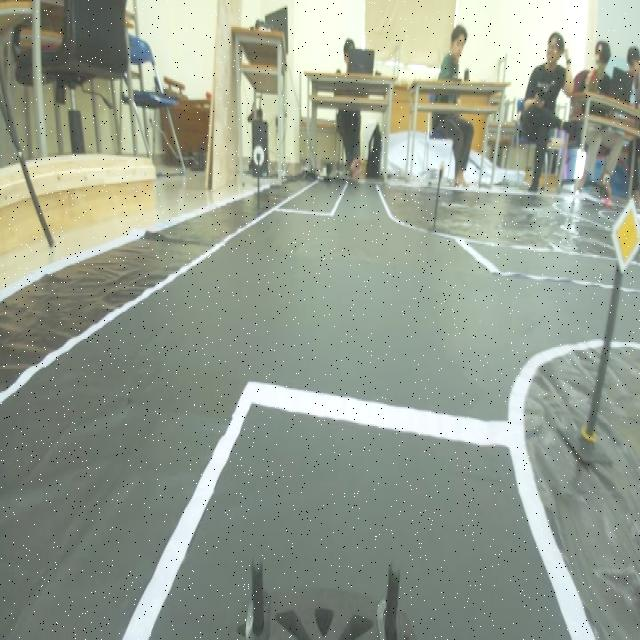priority: (601, 191, 640, 276)
